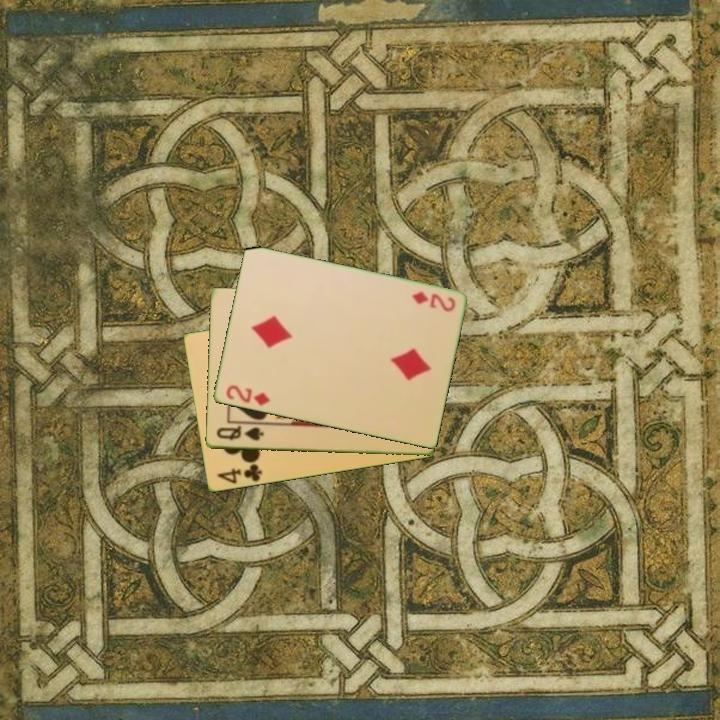2d: (222, 382, 273, 409), (408, 288, 458, 315)
4c: (213, 460, 265, 487)
Qs: (213, 423, 266, 444)
